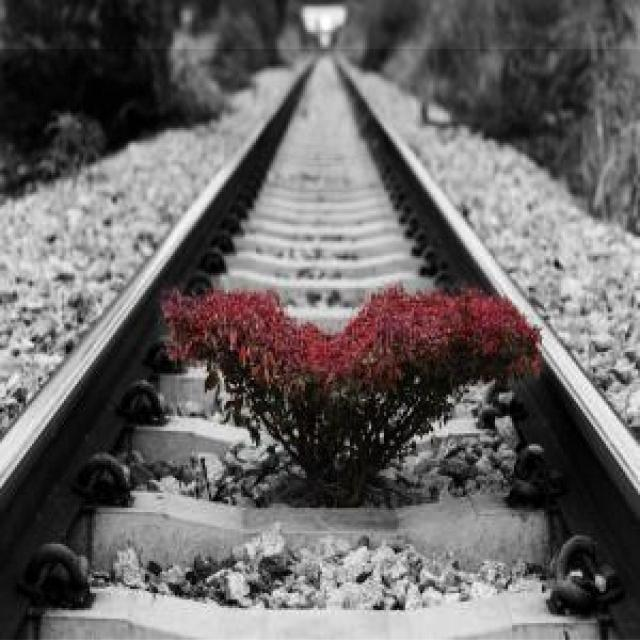rail: (1, 51, 640, 640)
